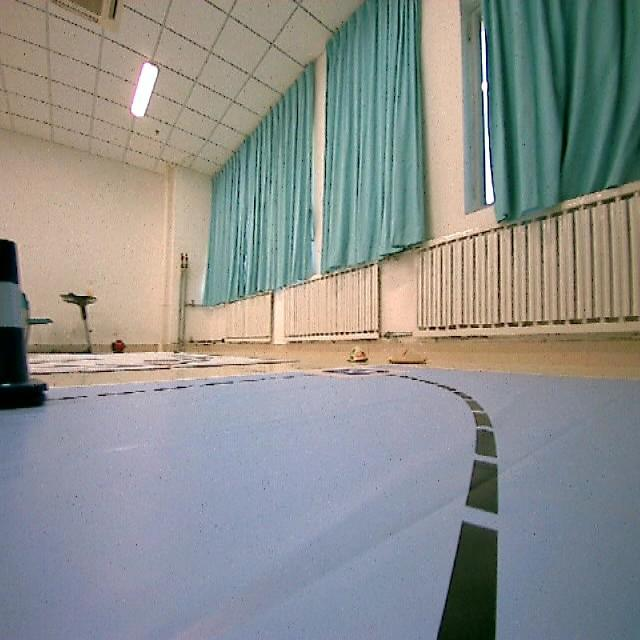obstacle: (0, 235, 49, 432)
